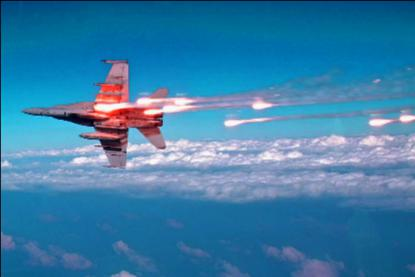F15: (19, 58, 168, 167)
